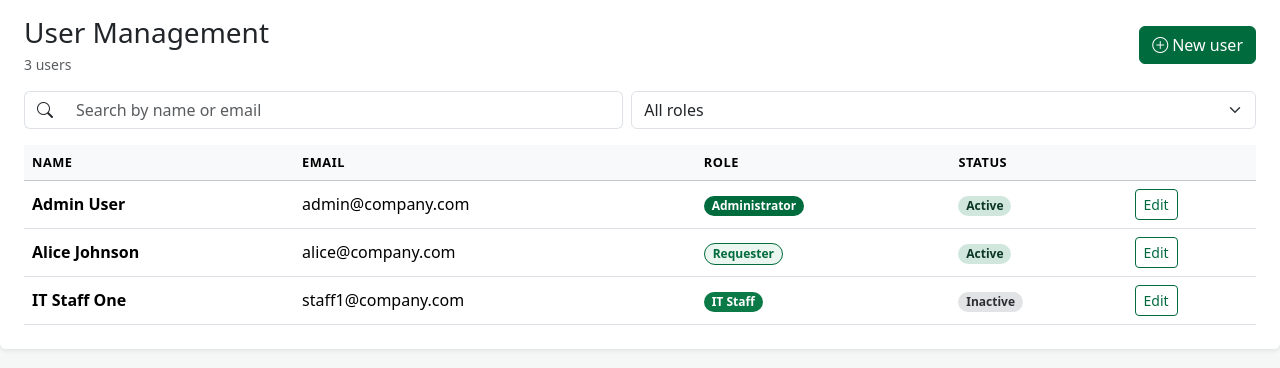
Test case: UserManagement (lab-03, Issue 5) › sends search text and the role filter to the API
Expected: the heading "User Management" is shown, [24,16,269,50]
In the field named "Search users": {"x": 344, "y": 110} [64,91,623,129], type "alice"
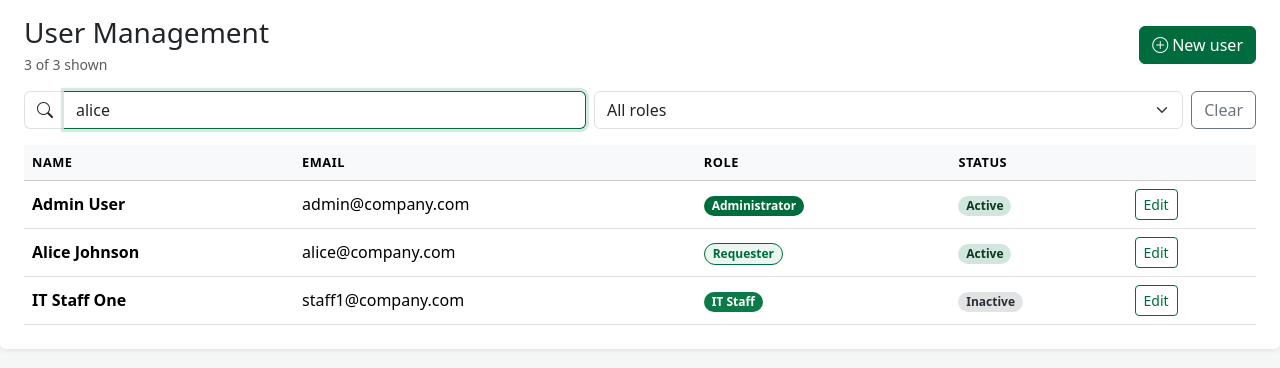
Select "IT Staff" in the dropdown named "Filter by role": {"x": 889, "y": 110} [594,91,1183,129]
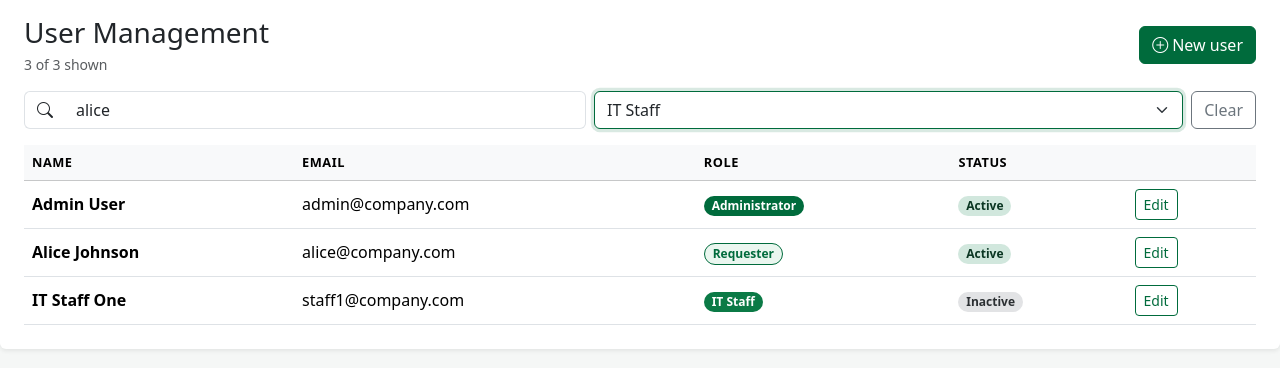
Click the button "Clear": {"x": 1224, "y": 110} [1191,91,1256,129]
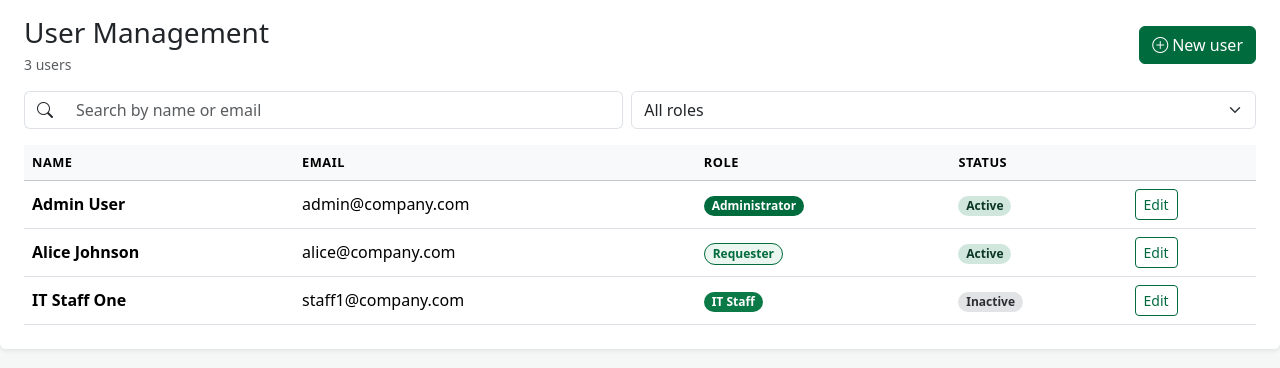
Result: the field named "Search users" is empty at [64,91,623,129]
